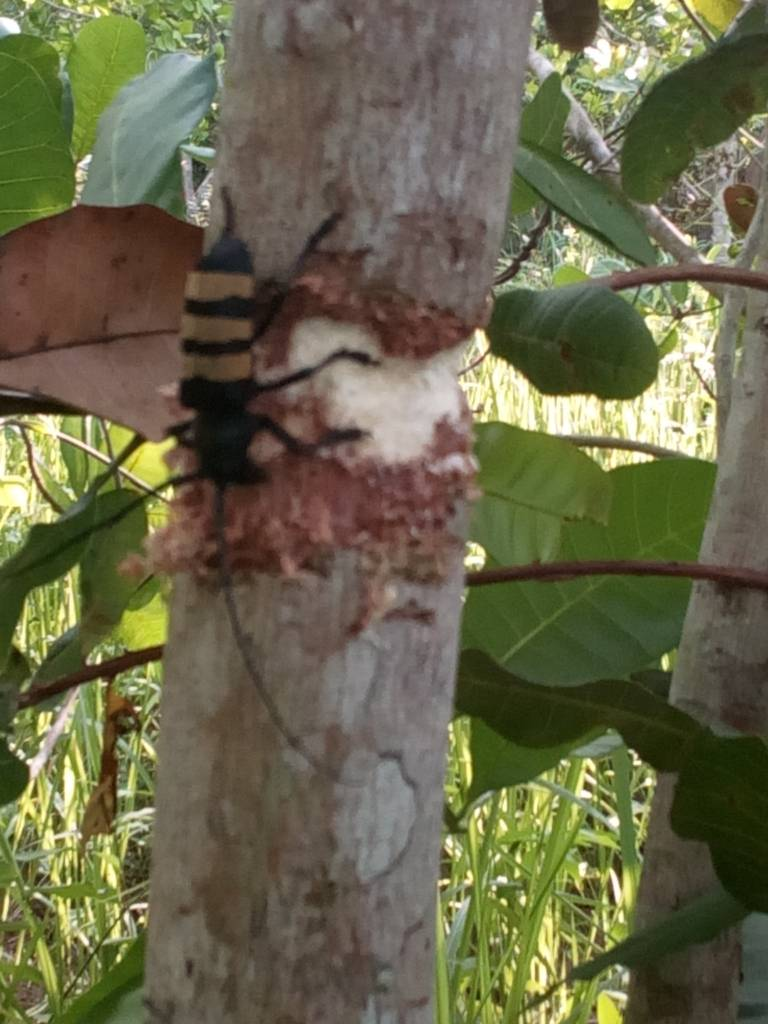Analepse trifasciata: (183, 264, 493, 589)
